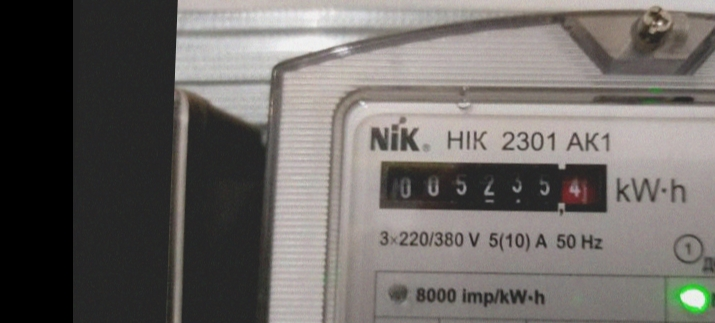0: (397, 173, 413, 199), (425, 172, 441, 197)
2: (480, 171, 497, 197)
3: (507, 169, 525, 194)
4: (565, 171, 584, 200)
5: (535, 169, 552, 197), (453, 171, 468, 196)
screen: (365, 144, 618, 226)
